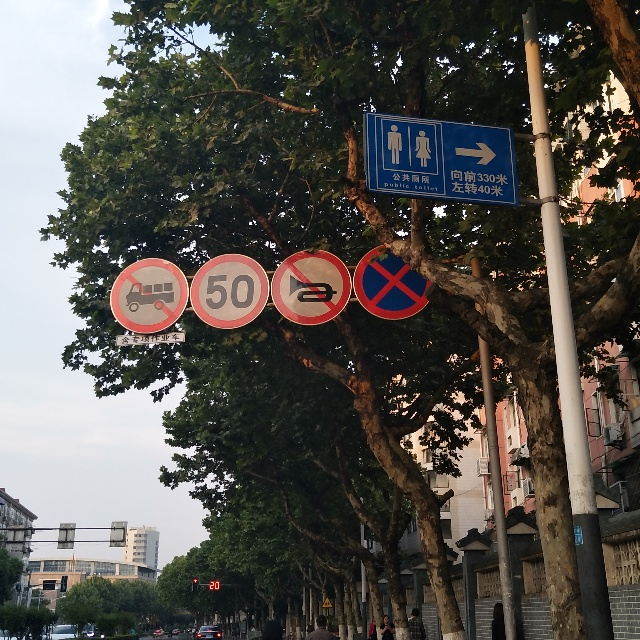nohonk: (271, 254, 345, 320)
stop: (358, 246, 434, 314)
